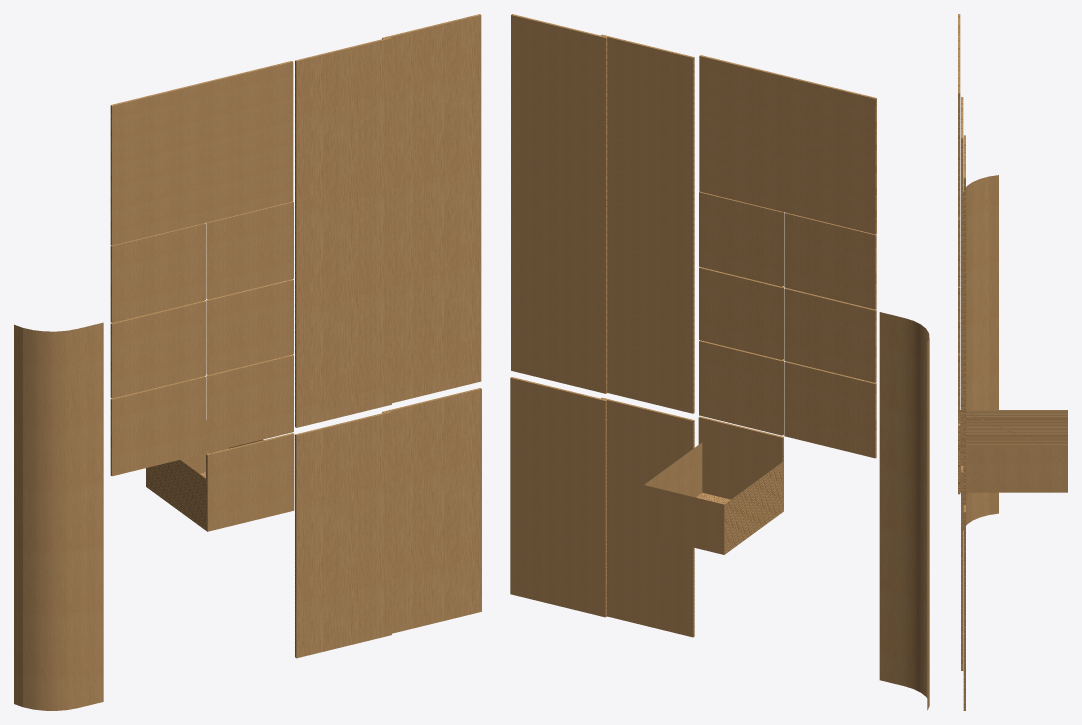
The model's file is Novo Armário.glb.
The picture shows the model from 3 angles, left to right: view 1: azimuth 30°, elevation 25°; view 2: azimuth 150°, elevation 25°; view 3: azimuth 270°, elevation 25°; orthographic projection. The views are drawn at different scales.
Parts seen in each view (by area): view 1: Plane.010, Porta direita, Plane.008, Porta direita.001, Plane.013, Porta direita.002, Porta direita.003, Plane.014; view 2: Plane.010, Porta direita.001, Porta direita, Plane.013, Porta direita.003, Plane.008, Porta direita.002, Plane.014; view 3: Plane.014, Plane.008, Porta direita.001, Porta direita, Plane.010, Porta direita.003, Porta direita.002, Plane.013.
Part boxes in pixels (x1,y1,x2,y2): Plane.010: (110, 201, 293, 476); Porta direita: (295, 37, 391, 427); Plane.008: (14, 322, 103, 710); Porta direita.001: (382, 14, 481, 403); Plane.013: (110, 61, 293, 245); Porta direita.002: (295, 411, 391, 658); Porta direita.003: (382, 388, 481, 633); Plane.014: (146, 420, 294, 531); Plane.010: (699, 191, 876, 458); Porta direita.001: (511, 14, 607, 393); Porta direita: (601, 34, 694, 413); Plane.013: (699, 55, 876, 234); Porta direita.003: (510, 377, 606, 617); Plane.008: (879, 312, 929, 710); Porta direita.002: (601, 397, 694, 637); Plane.014: (644, 416, 783, 554); Plane.014: (958, 410, 1067, 494); Plane.008: (963, 175, 998, 529); Porta direita.001: (963, 135, 965, 505); Porta direita: (961, 97, 963, 465); Plane.010: (958, 217, 960, 423); Porta direita.003: (963, 505, 965, 710); Porta direita.002: (961, 465, 963, 670); Plane.013: (958, 14, 960, 217).
Size of the model in its own units: 19 by 24.28 by 4.52.
1 material, 1 textured.
